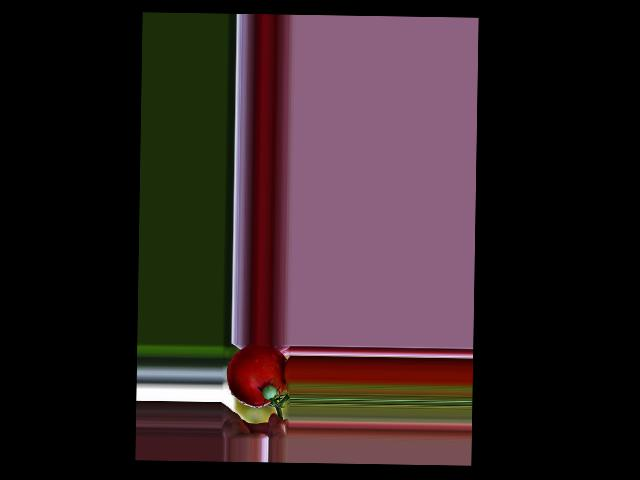tomato: (226, 343, 286, 408)
